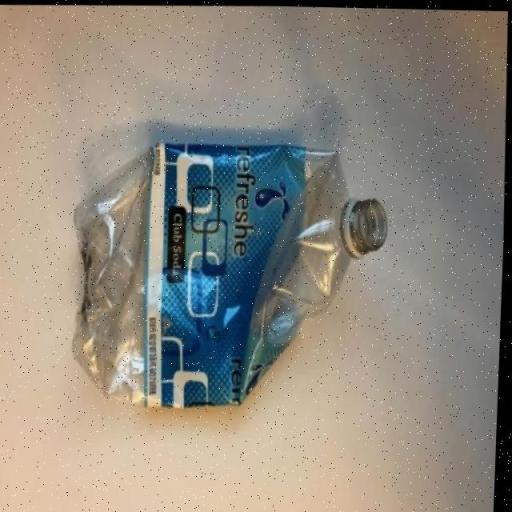plastic: (69, 128, 392, 414)
